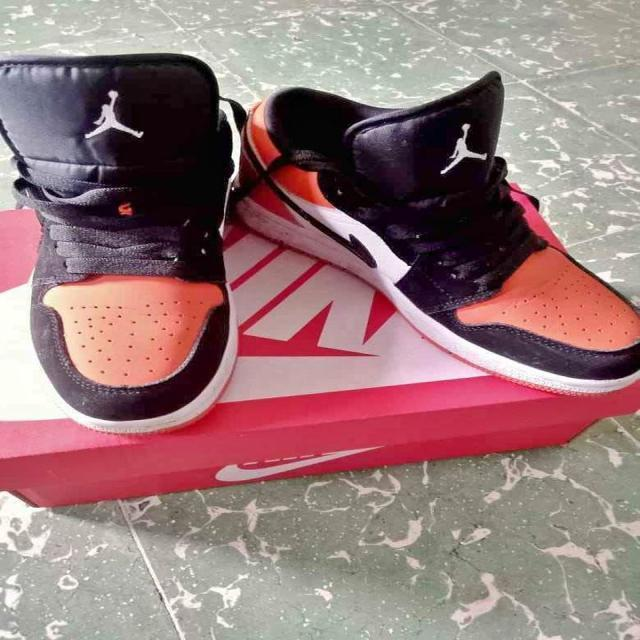nike fake jordan 1: (235, 70, 640, 396), (0, 45, 246, 447)
